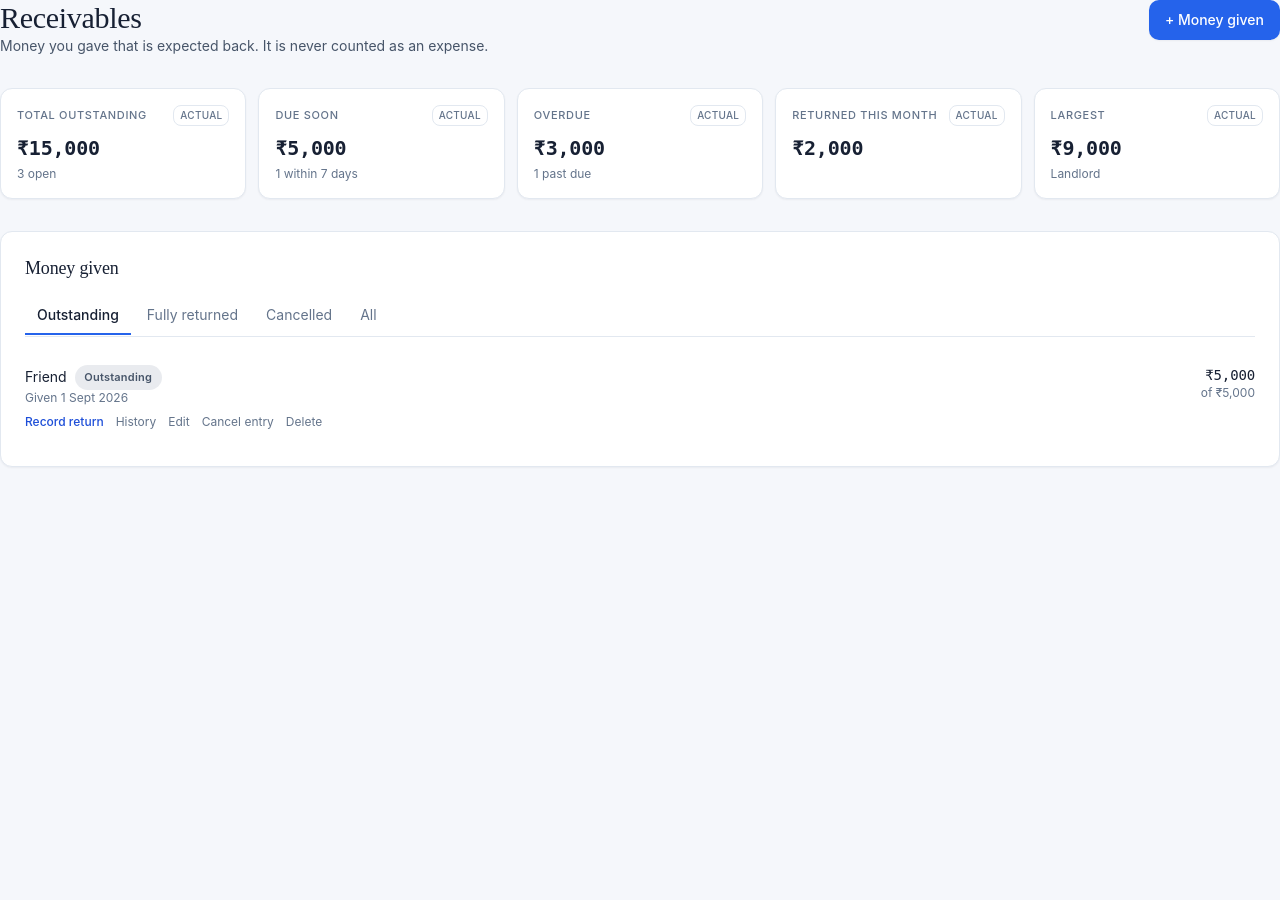
Test: ReceivablesPage › recording a return (Part 57) › records ₹2,000 against the receivable and tells the user what is still outstanding
The image size is (1280, 900).
expect the text "Friend" is shown: met, box [25, 368, 67, 385]
Click the button "Record return": [64, 422] box [25, 414, 104, 430]
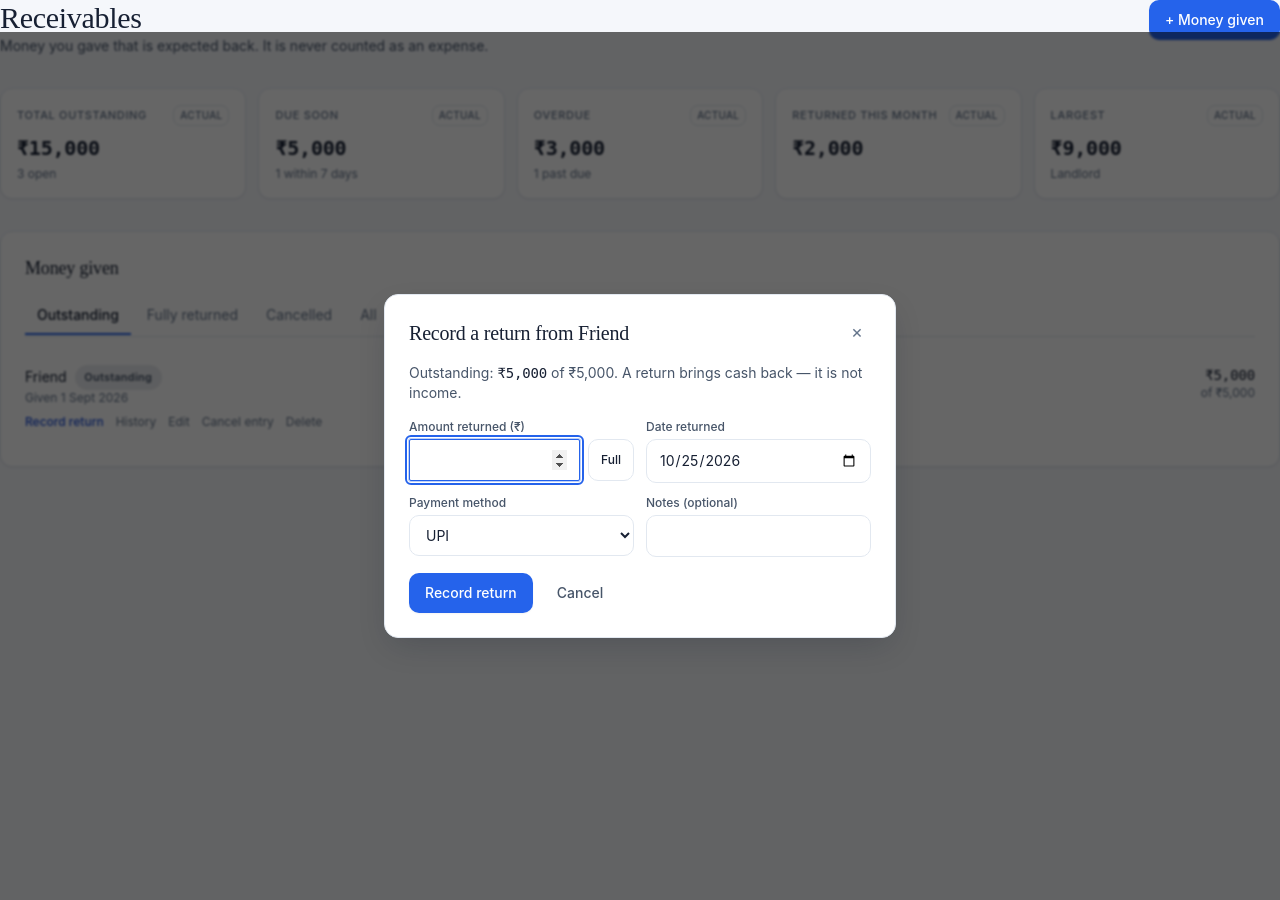
In the number field labelled "Amount returned (₹)": [495, 460] box [409, 439, 580, 481], type "2000"
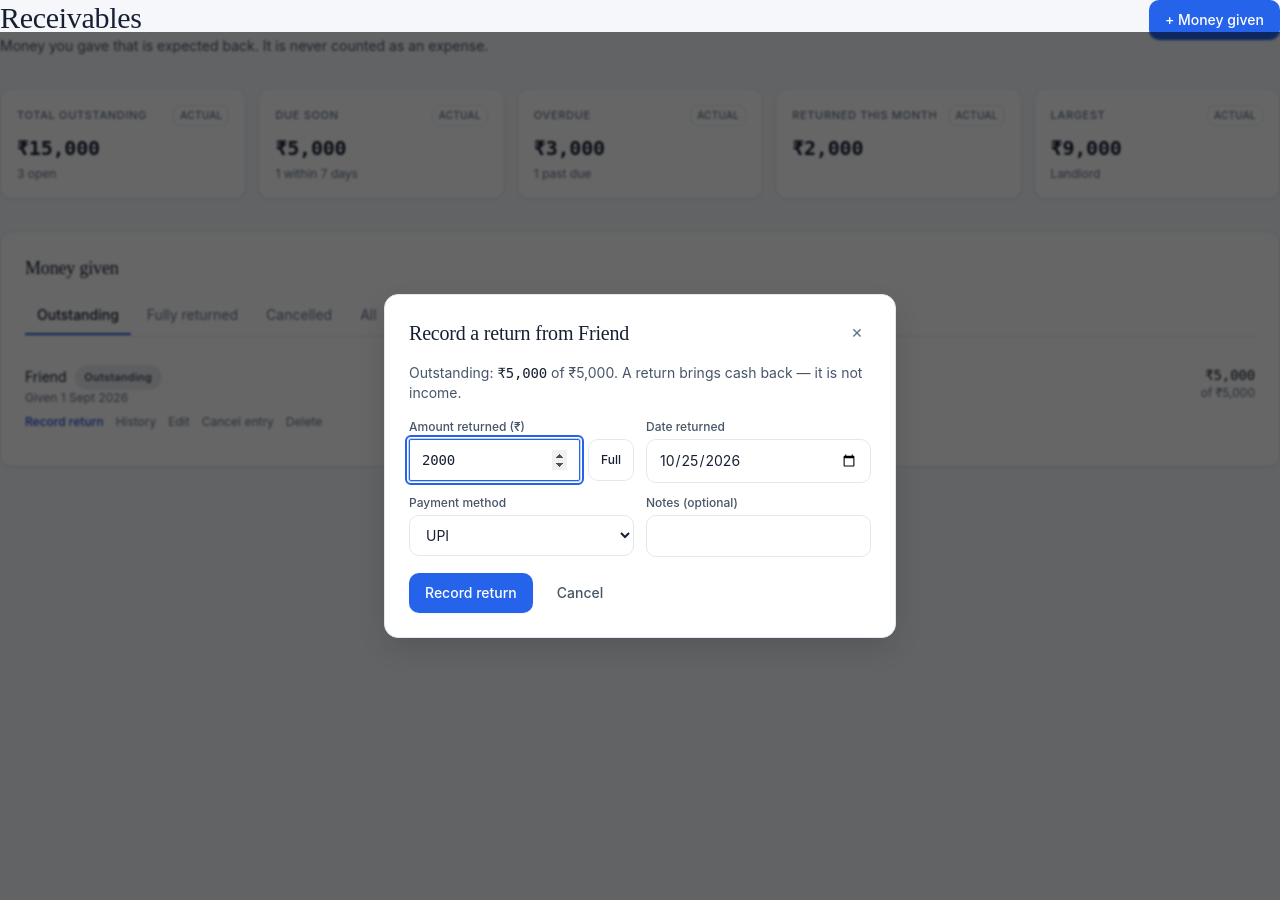
Click the button "Record return": [471, 593] box [409, 573, 533, 613]
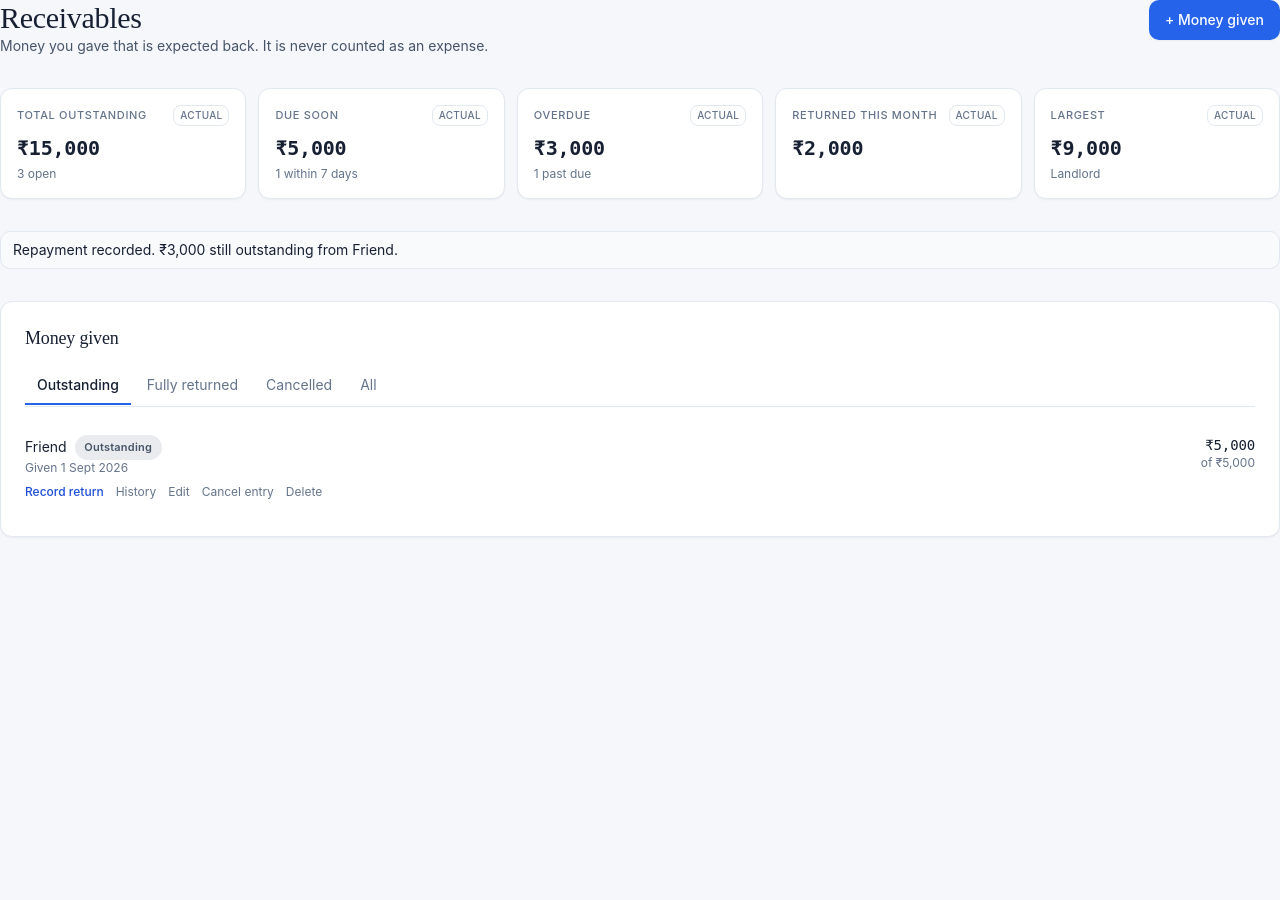
expect the message shows "₹3,000 still outstanding from Friend": met, box [13, 241, 398, 258]
